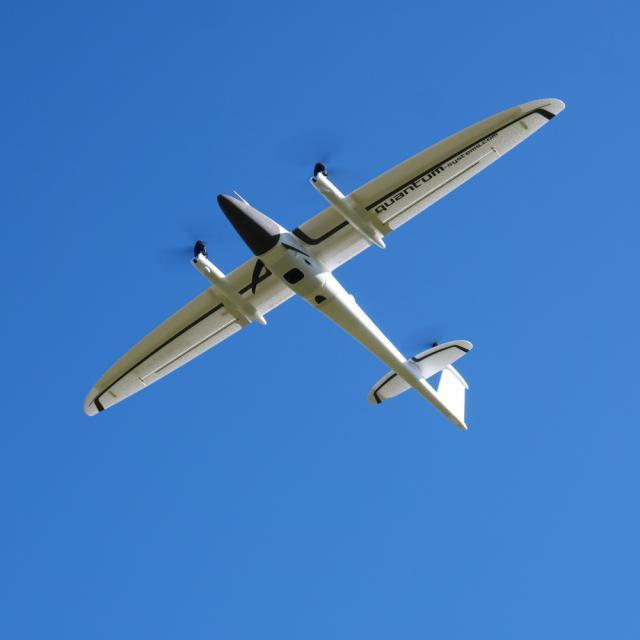iha: (73, 91, 572, 457)
